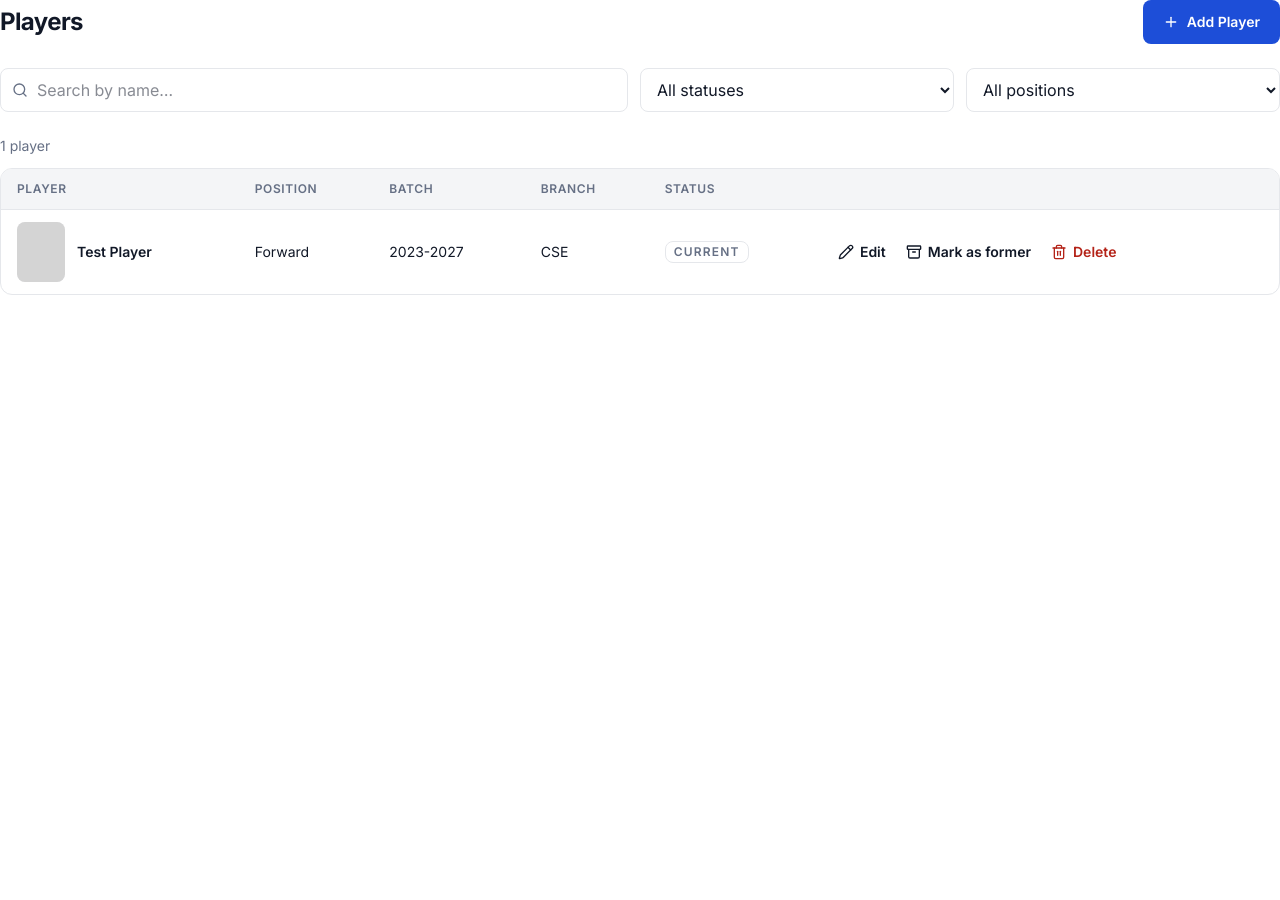
Test: AdminPlayers › does nothing when the confirmation is cancelled
Expected: the table named "Players" is shown, [1, 169, 1279, 294]
Click the button with aria-label "Delete Test Player" at (1084,252), box [1043, 230, 1124, 274]
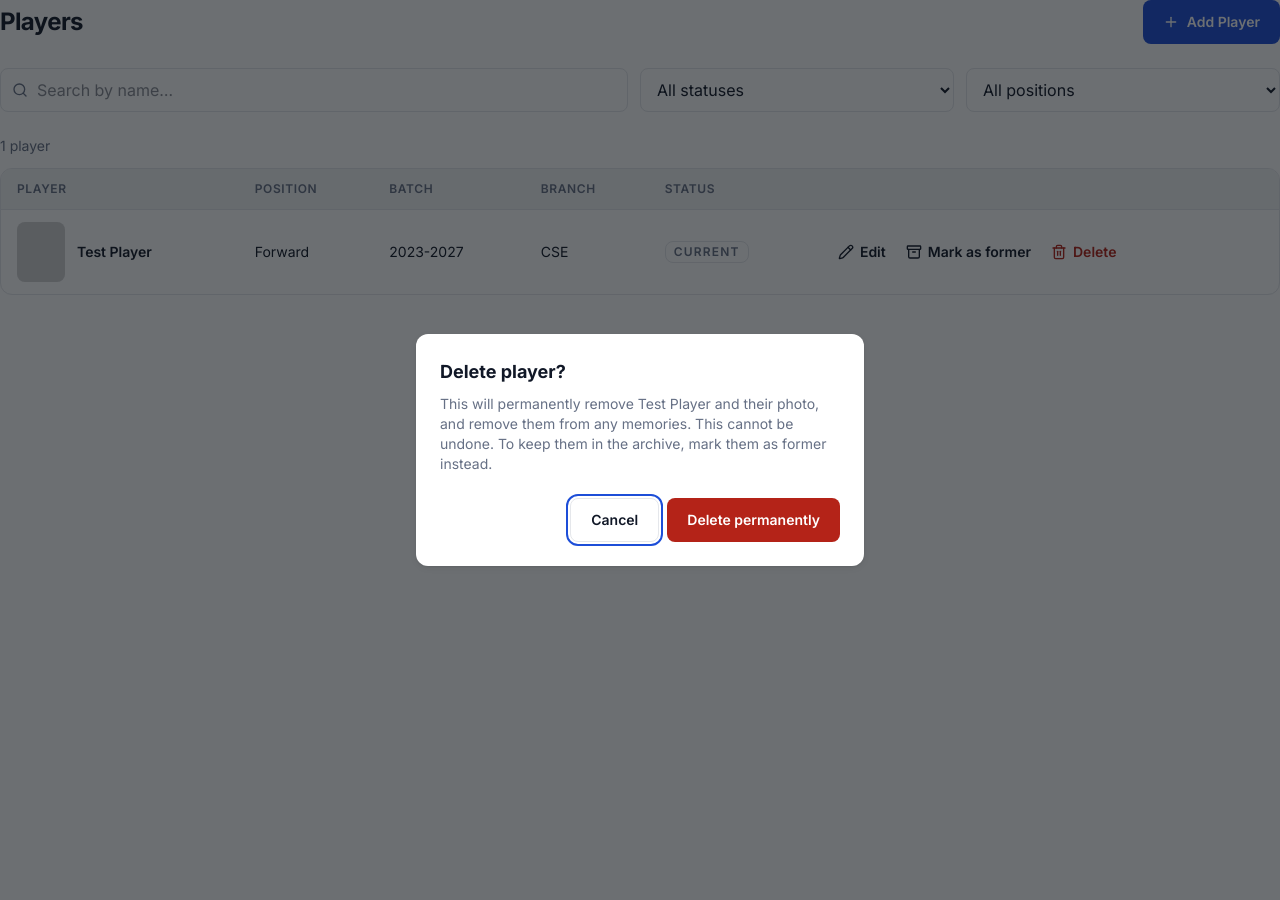
Click the button "Cancel" at (615,520), box [570, 498, 659, 542]
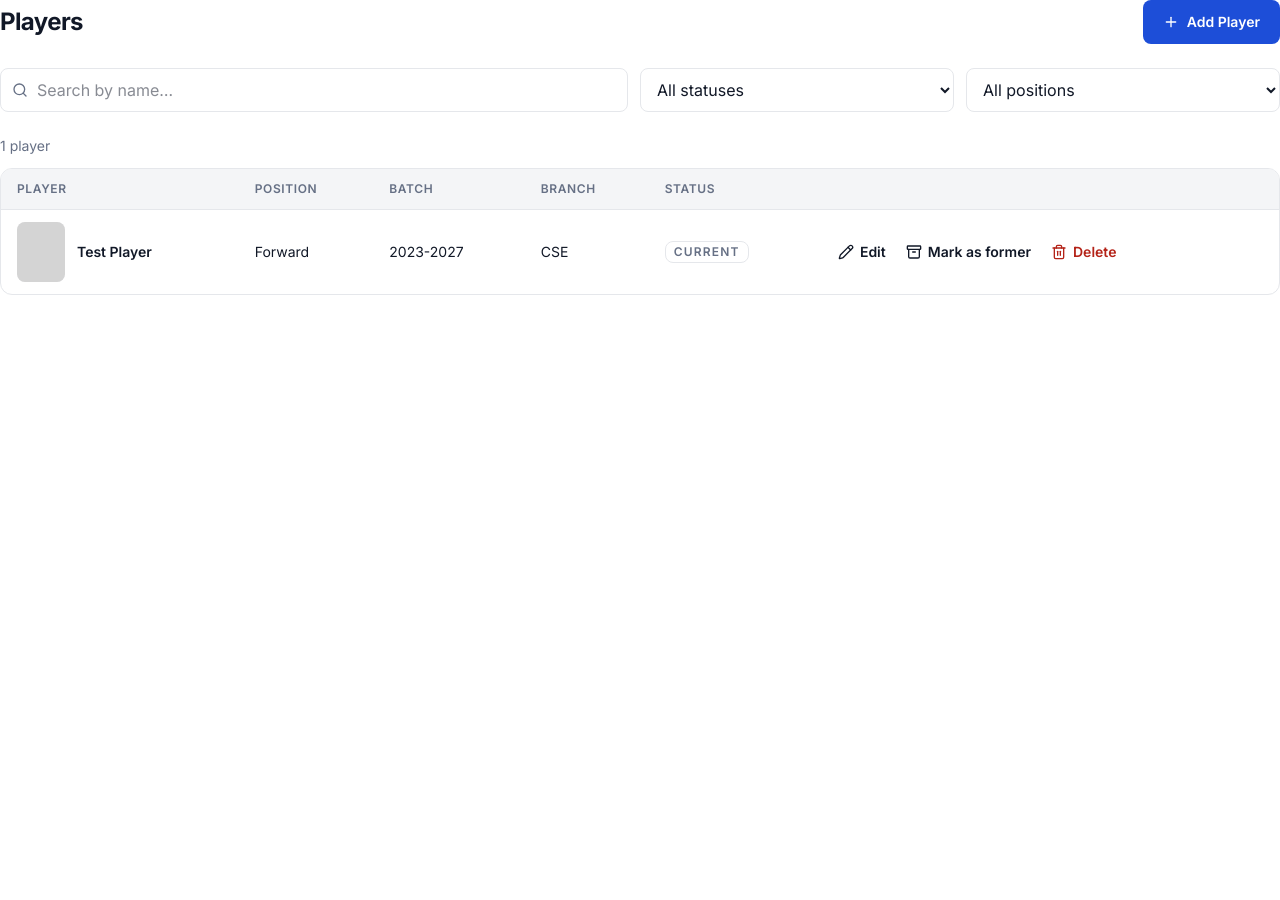
Now the dialog is gone
